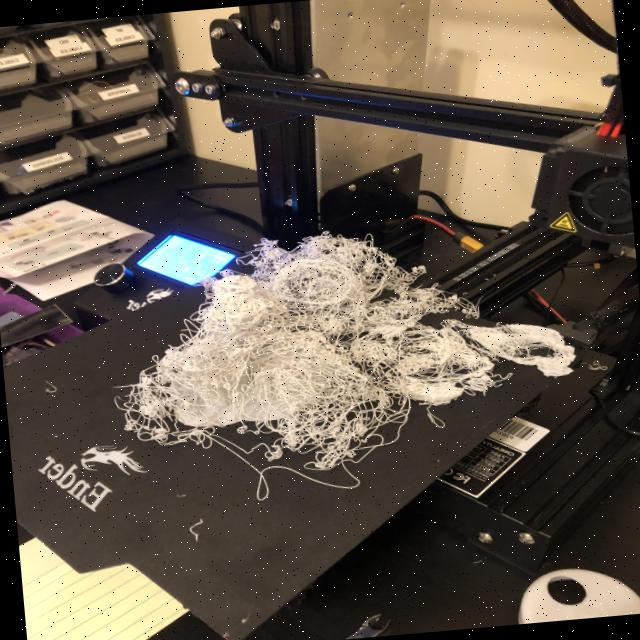spaghetti: (93, 210, 517, 508)
